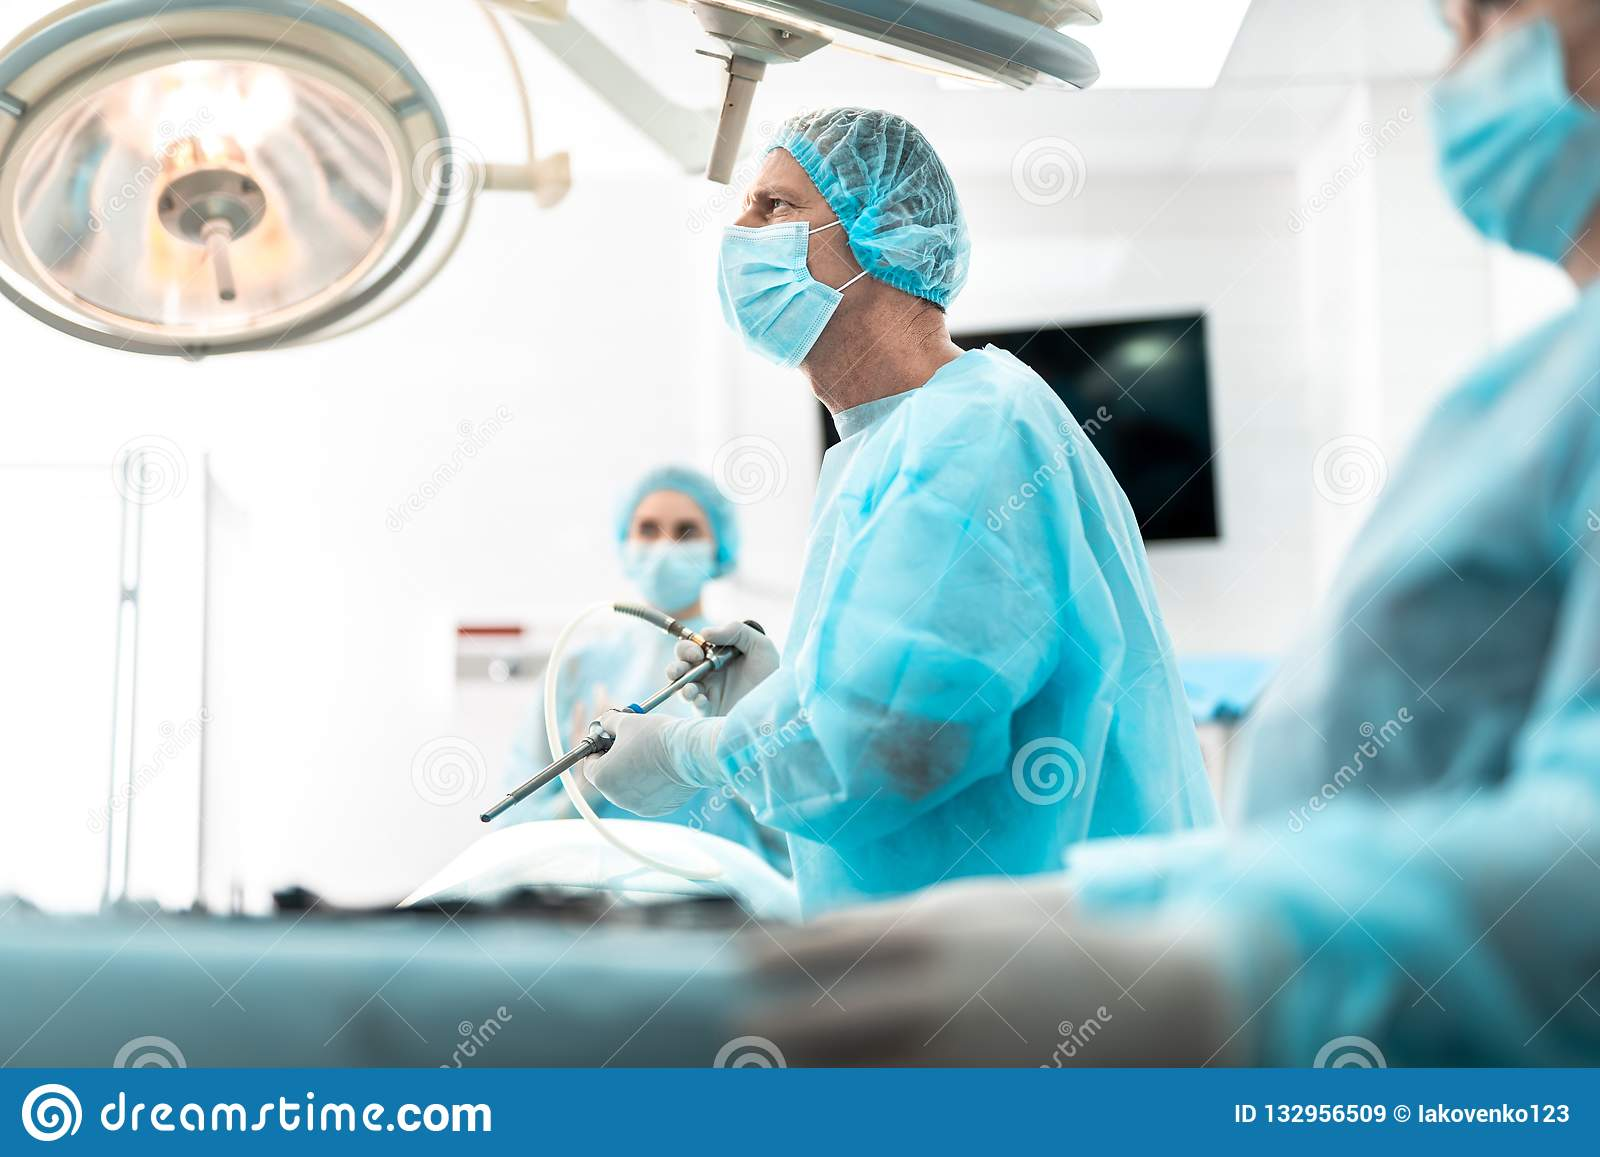mask: (698, 213, 837, 375)
